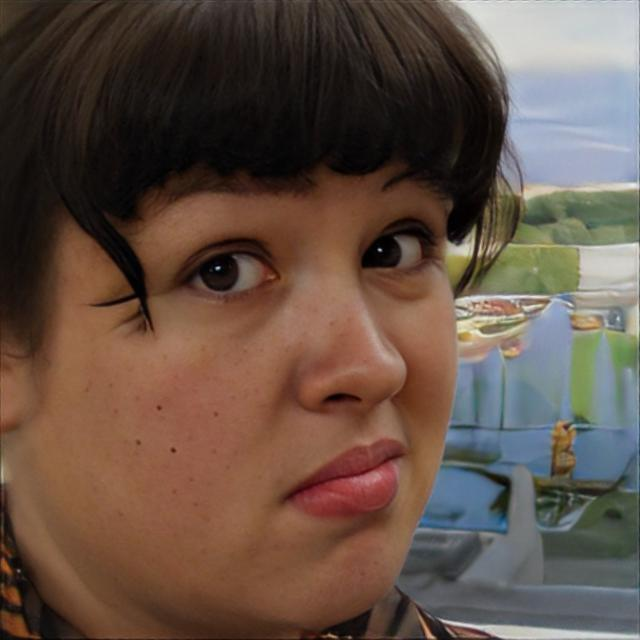disgust: (33, 123, 460, 632)
